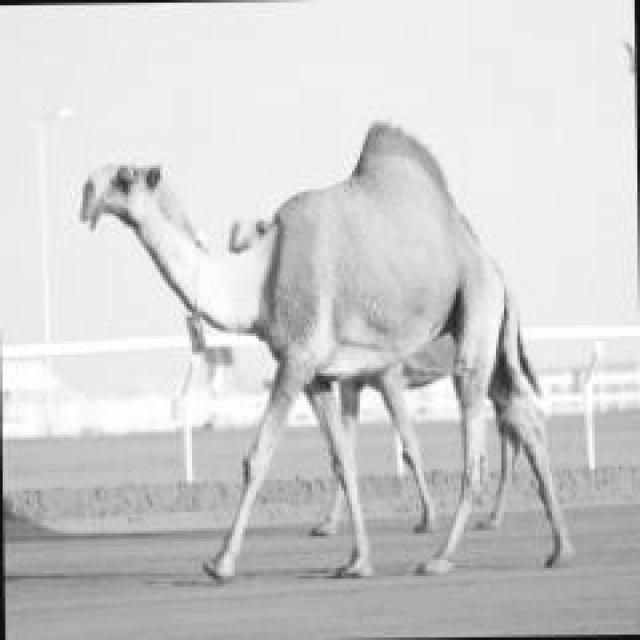Camel: (77, 120, 574, 581)
